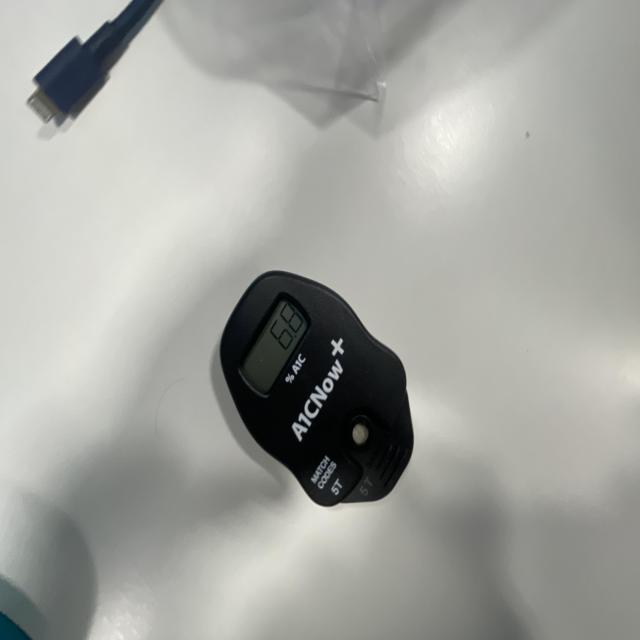hba1c: (215, 271, 415, 510)
